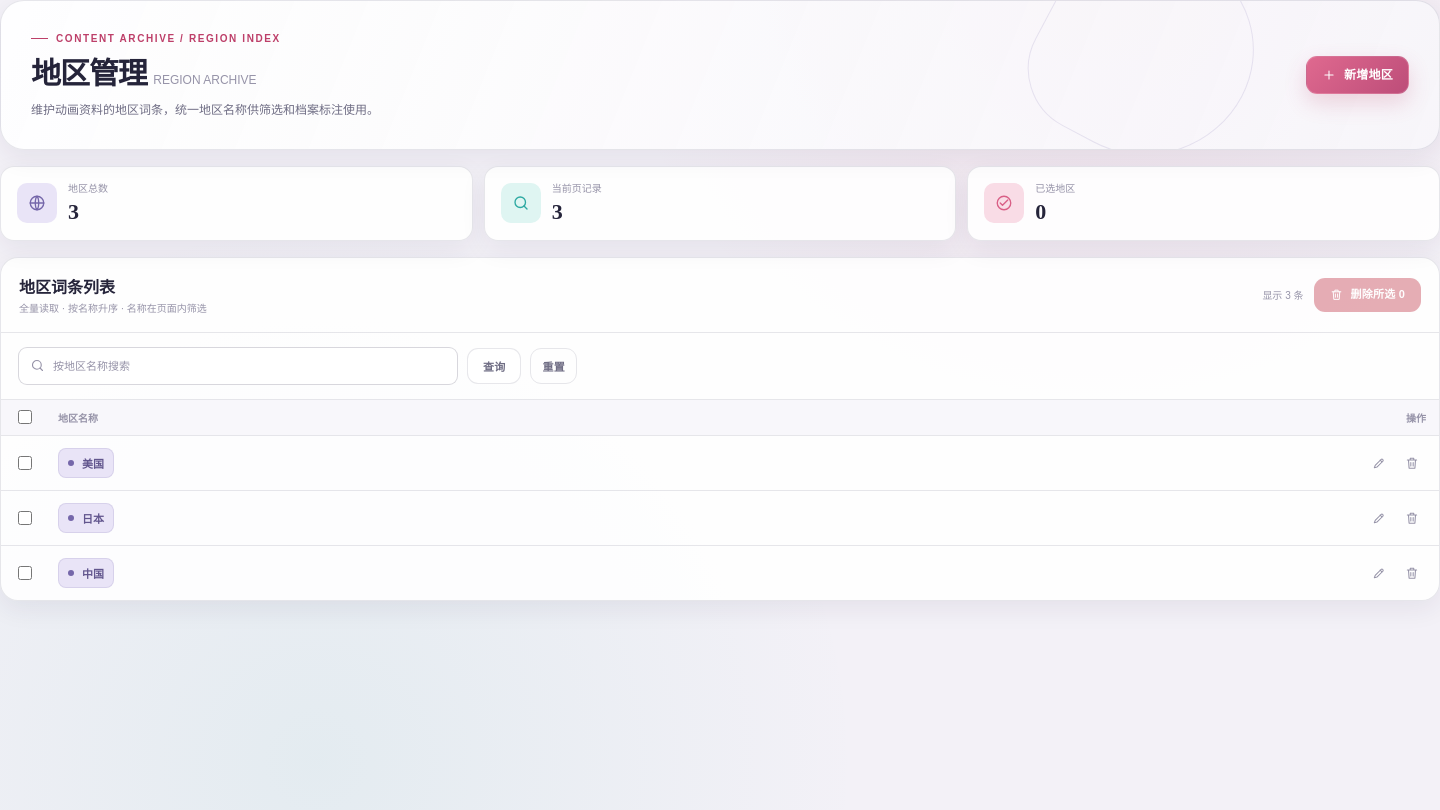
Test case: 地区管理页面 › 删除需勾选确认，批量删除使用内部 ID
Check: the button with class "danger-button" is disabled, box [1314,278,1421,312]
Click the checkbox named "选择当前结果全部地区" at (25, 417), box [18,410,32,424]
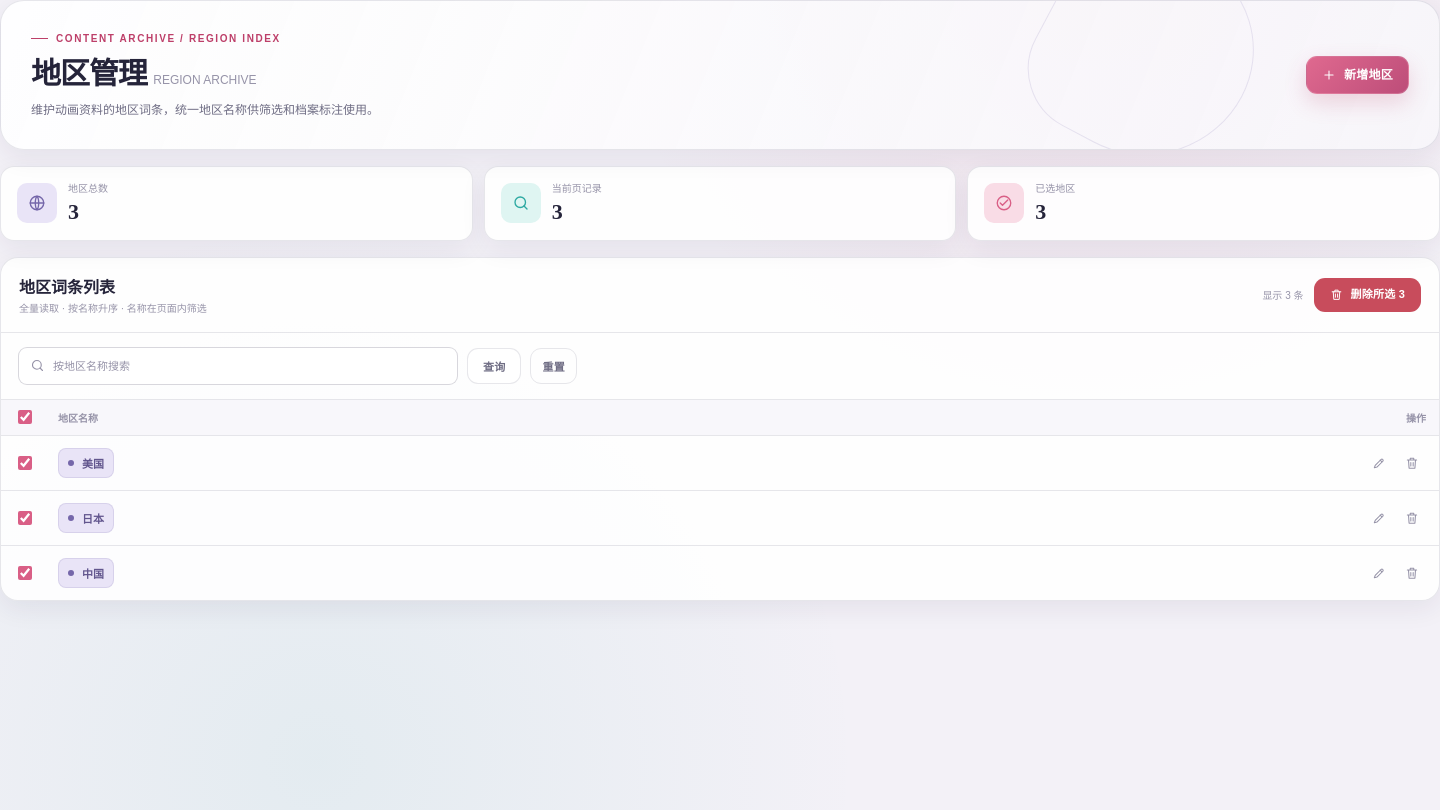
Click the button with class "danger-button" at (1367, 294), box [1314,278,1421,312]
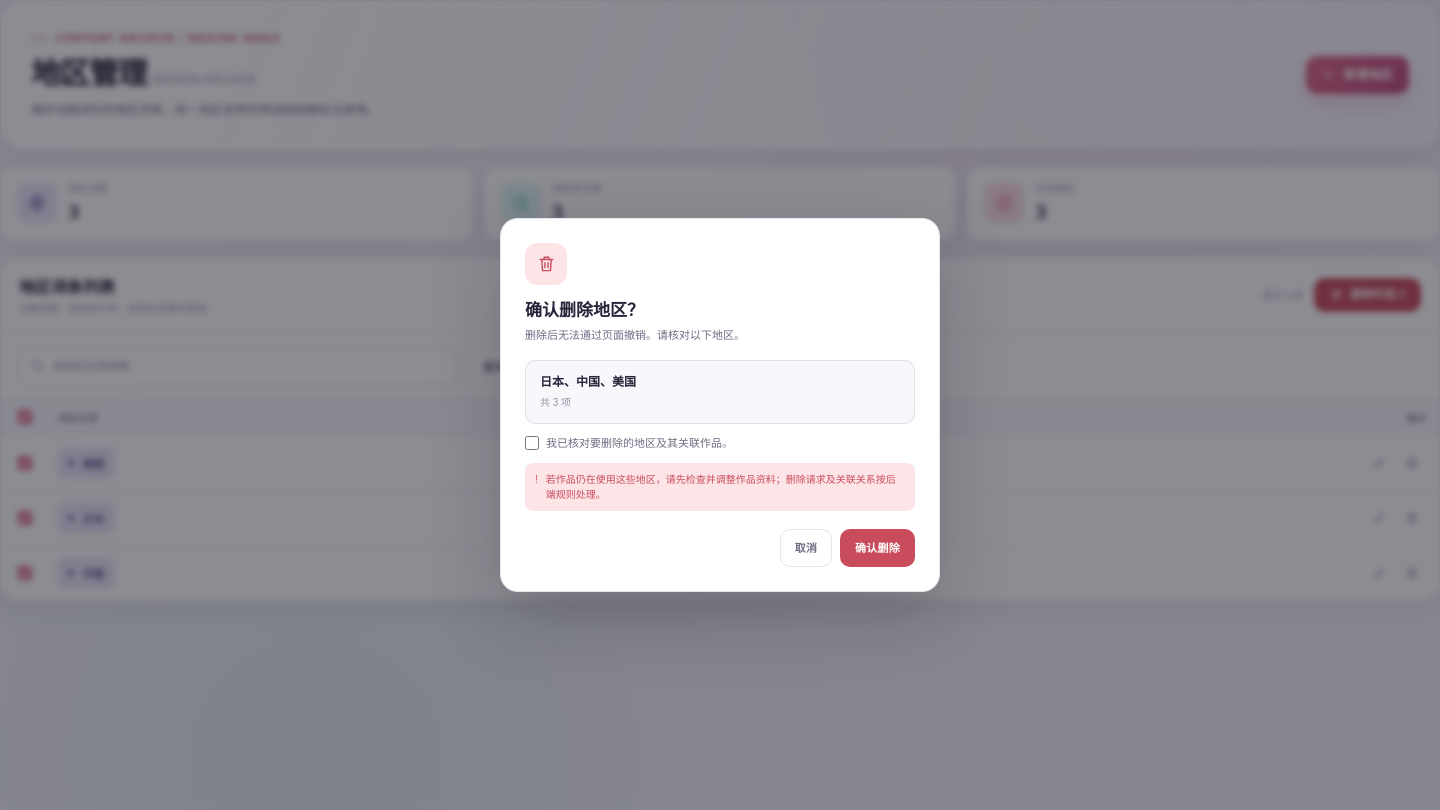
Click the button with class "danger-button" showing "确认删除" at (878, 548), box [840,530,915,568]
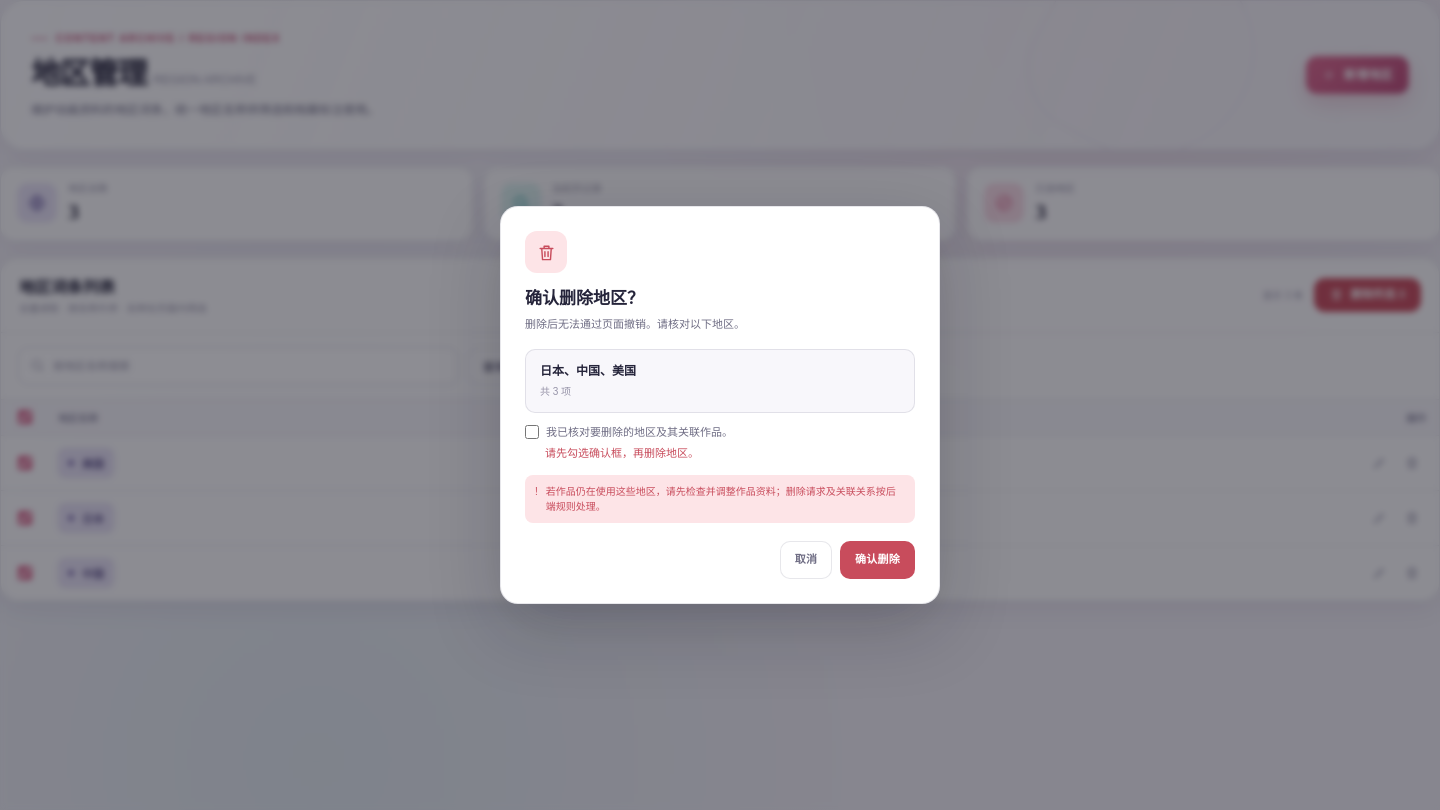
Check: the message with class "regions-delete-error" shows "请先勾选", box [545,448,699,460]
Click the checkbox labelled "我已核对要删除的地区及其关联作品。" at (532, 432), box [525,425,539,439]
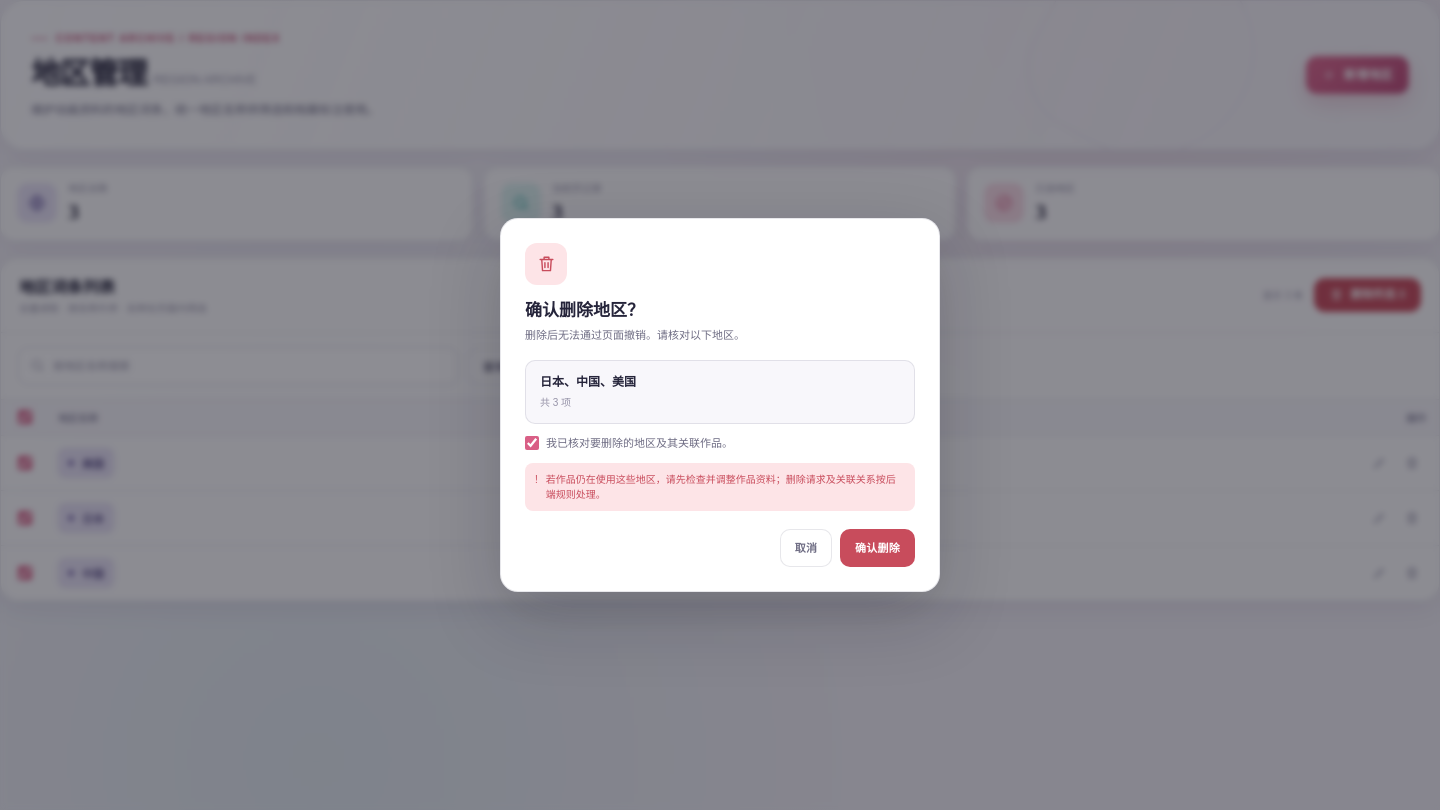
Click the button with class "danger-button" showing "确认删除" at (878, 548), box [840,530,915,568]
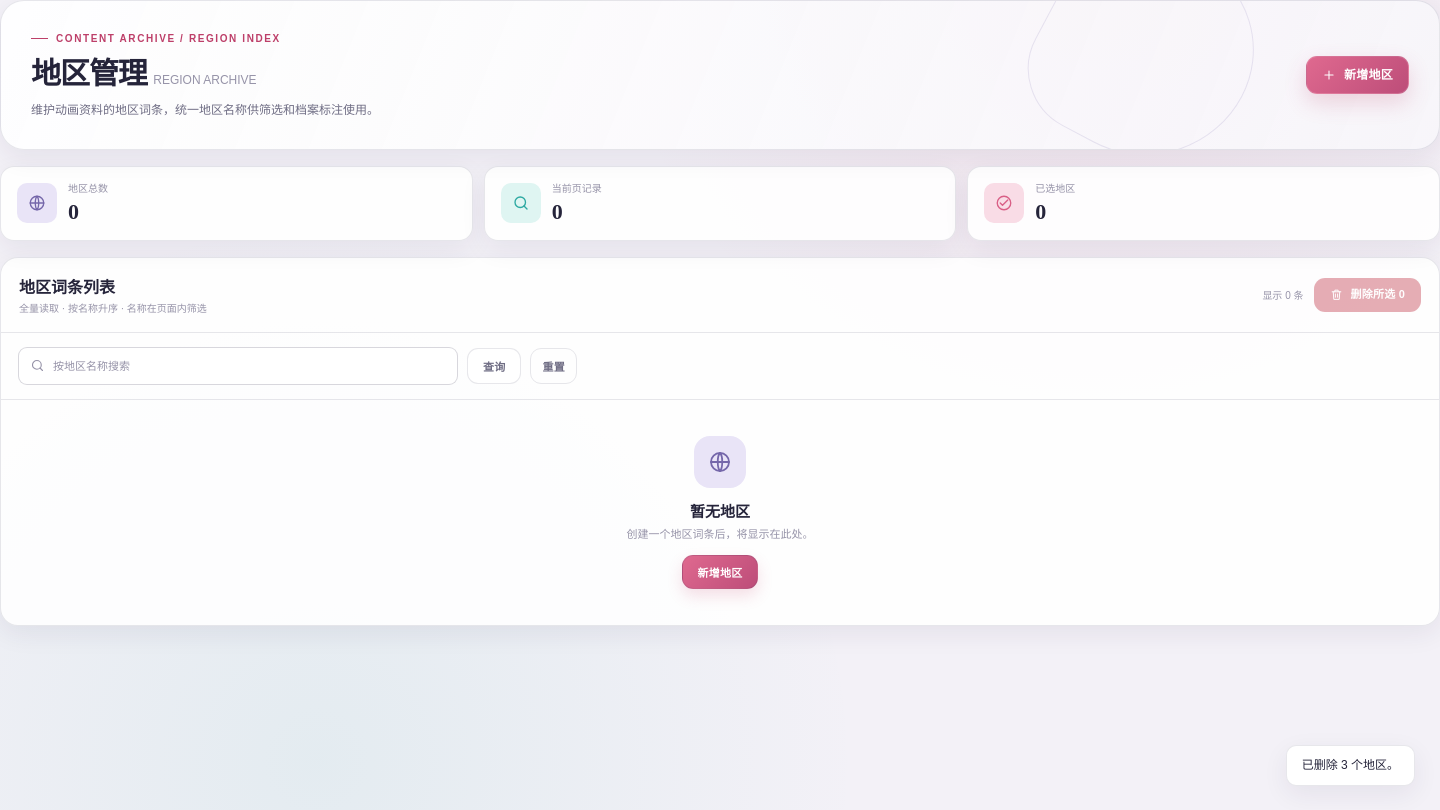
Check: the text "暂无地区" is shown, box [690,500,750,520]
